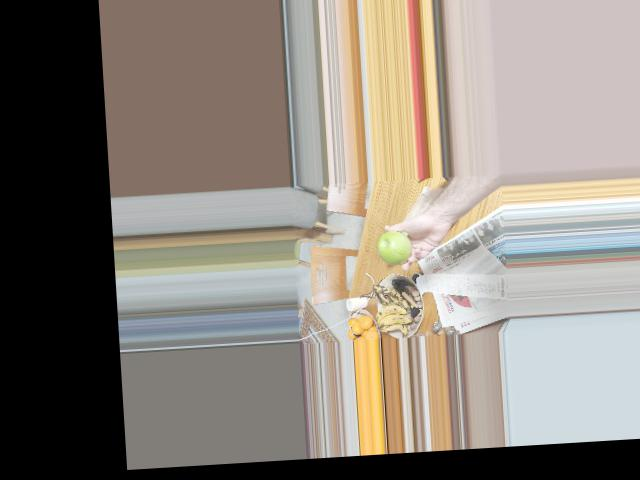apple: (372, 227, 417, 266)
